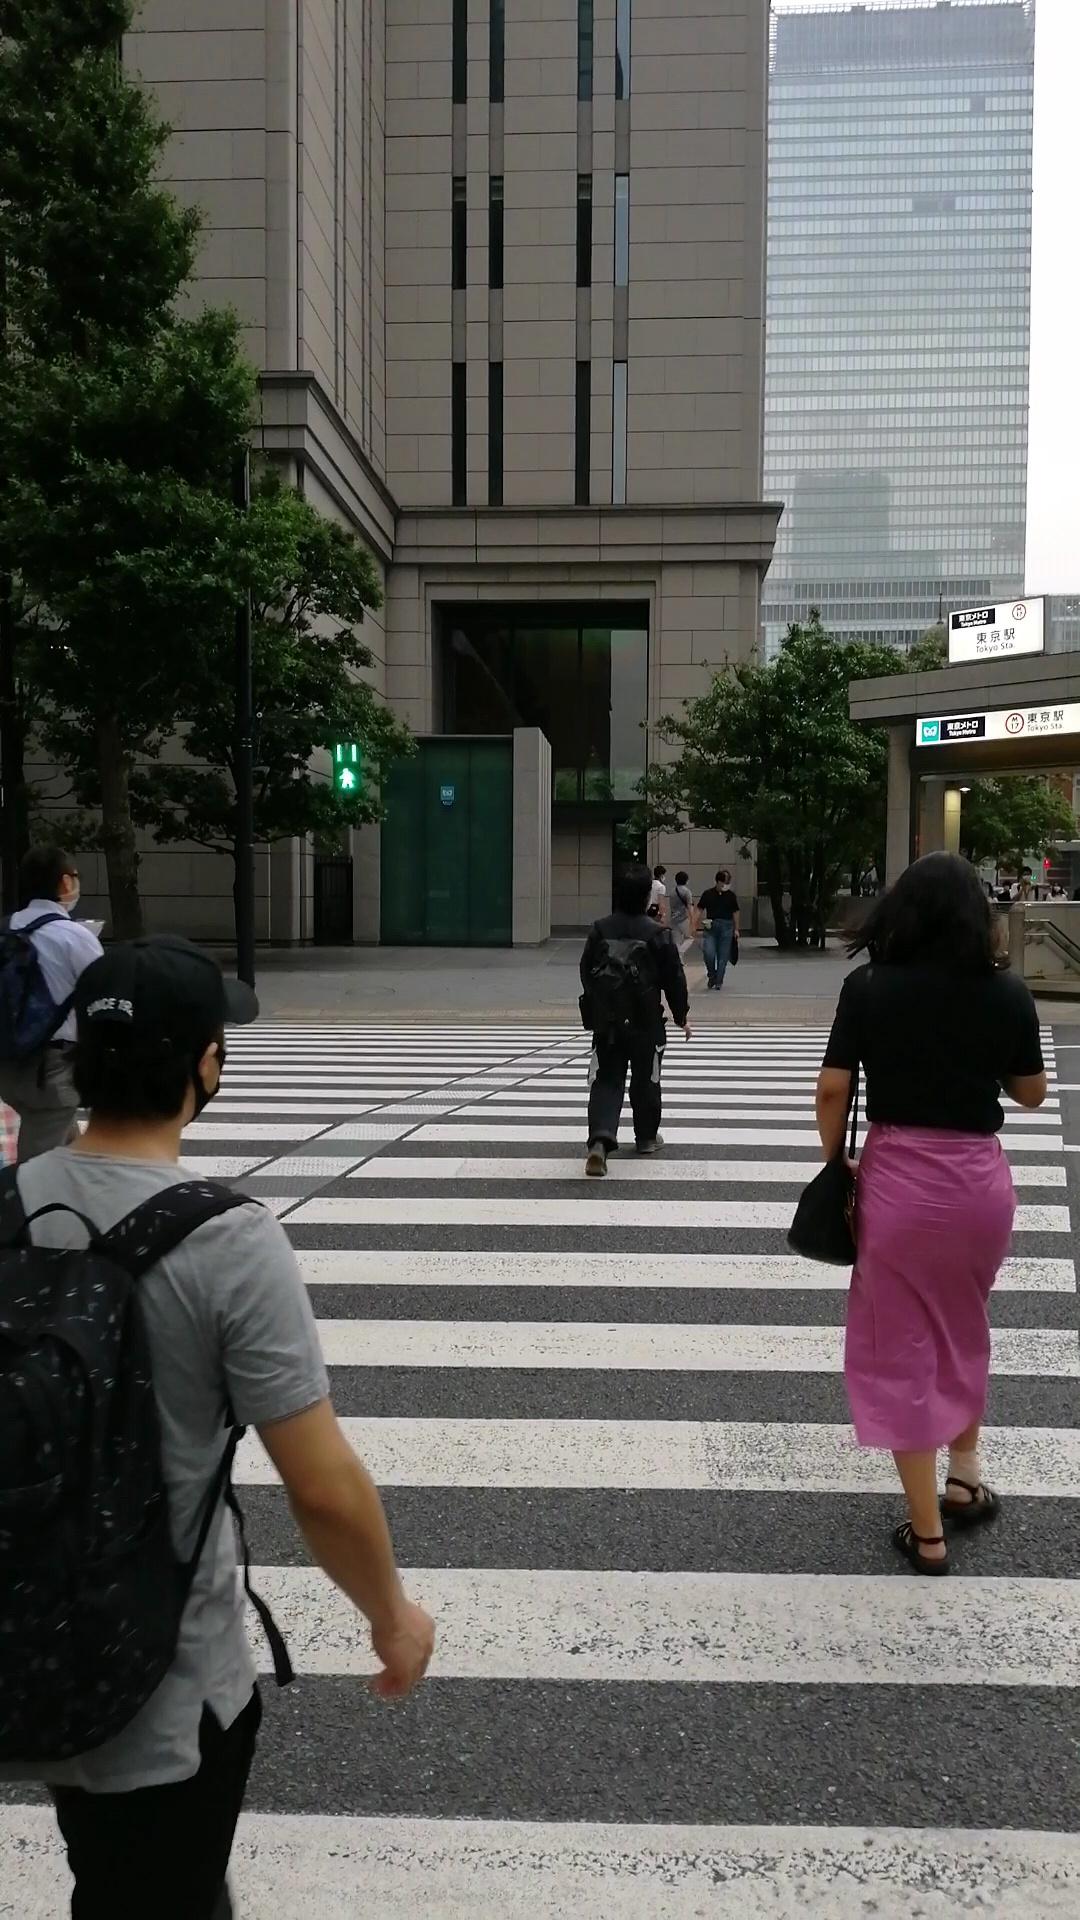green: (330, 735, 361, 796)
